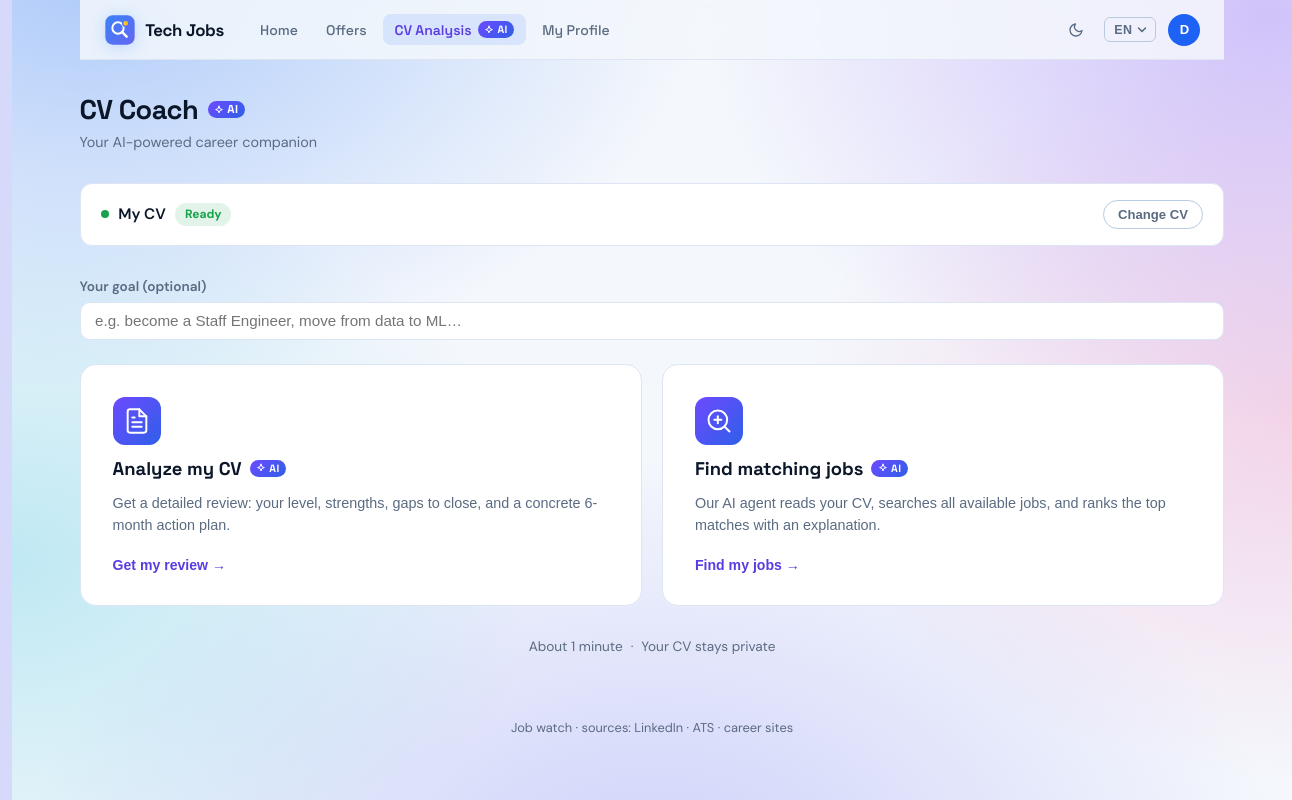
Test: CoachPage (integration) › signed in with a CV › shows a stream error
This screenshot has width=1292, height=800.
Expected: the text "My CV" is shown, [118,204,166,224]
Click the button "Find matching jobs".
click(719, 421)  # box [662,364,1224,606]
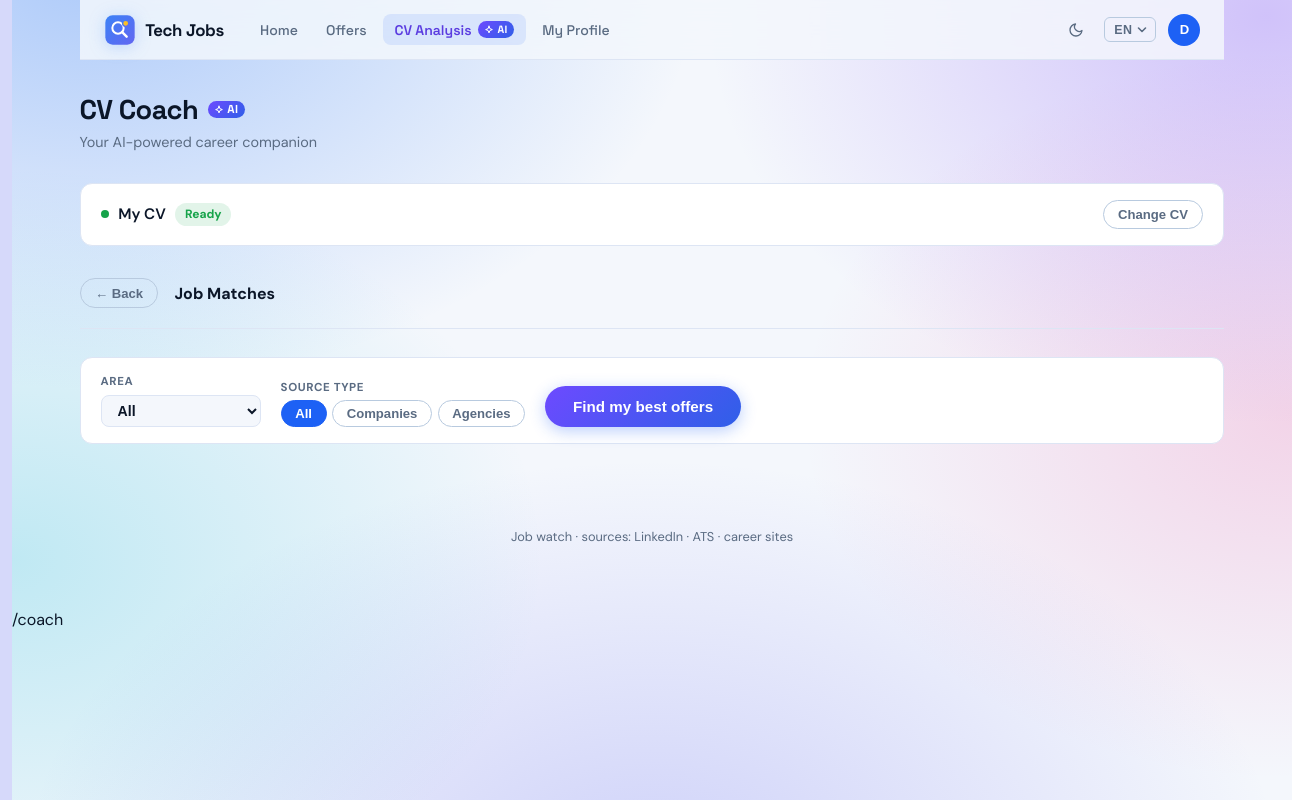
Click the button "Find my best offers".
click(643, 406)  # box [545,386,741,427]
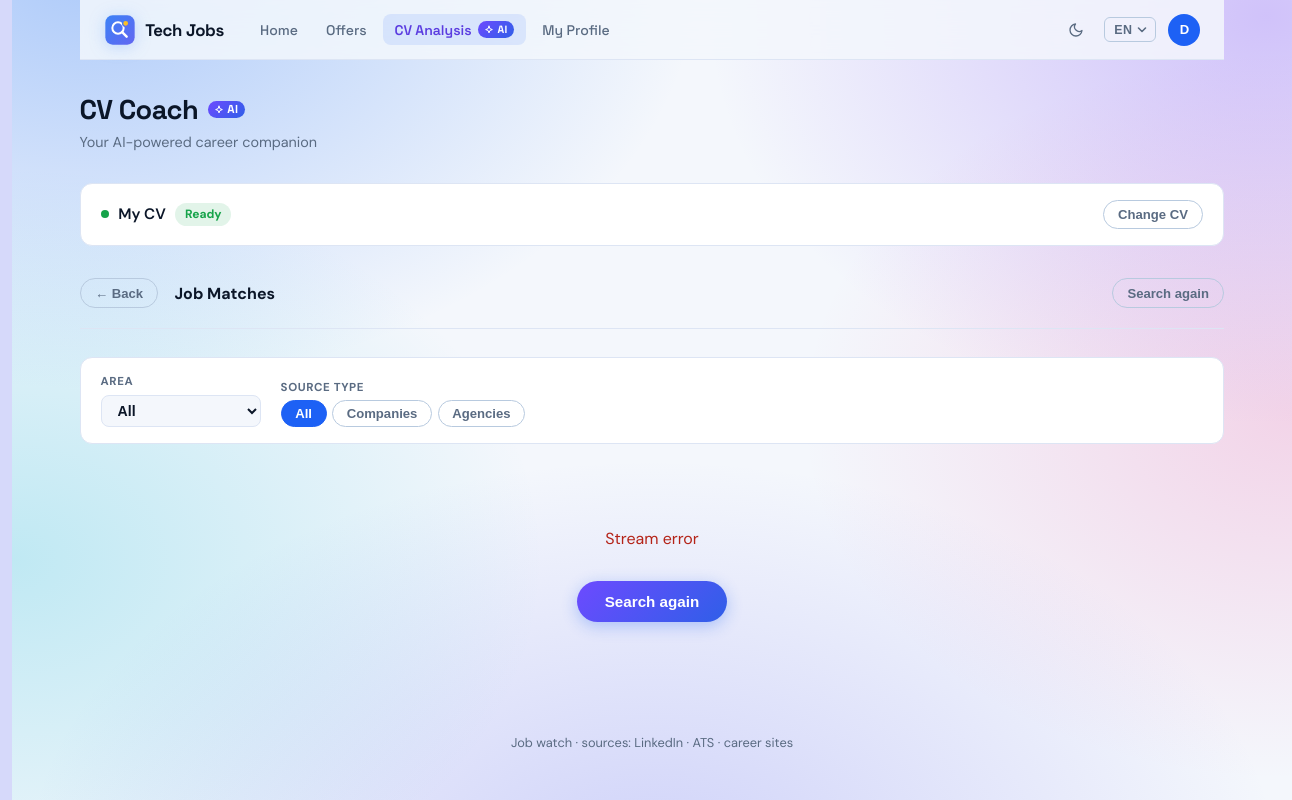
Expected: the text "Stream error" is shown, [605,528,699,549]
